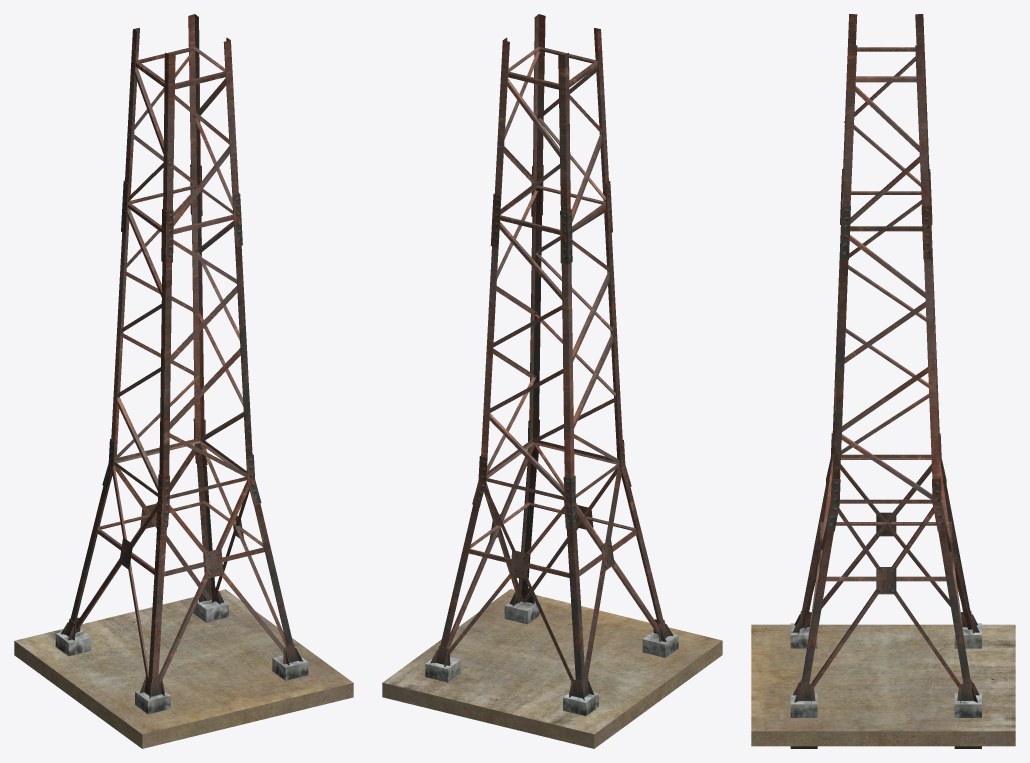
The model's file is Lep.fbx.
The picture shows the model from 3 angles, left to right: view 1: azimuth 30°, elevation 25°; view 2: azimuth 150°, elevation 25°; view 3: azimuth 270°, elevation 25°; orthographic projection. The views are drawn at different scales.
Parts seen in each view (by area): view 1: Lep; view 2: Lep; view 3: Lep.
Part boxes in pixels (x1,y1,x2,y2): Lep: (14, 14, 353, 748); Lep: (382, 14, 722, 748); Lep: (751, 14, 1015, 748).
Bounding box in the file's own units: 512 × 1519 × 537.
2 materials, 2 textured.
